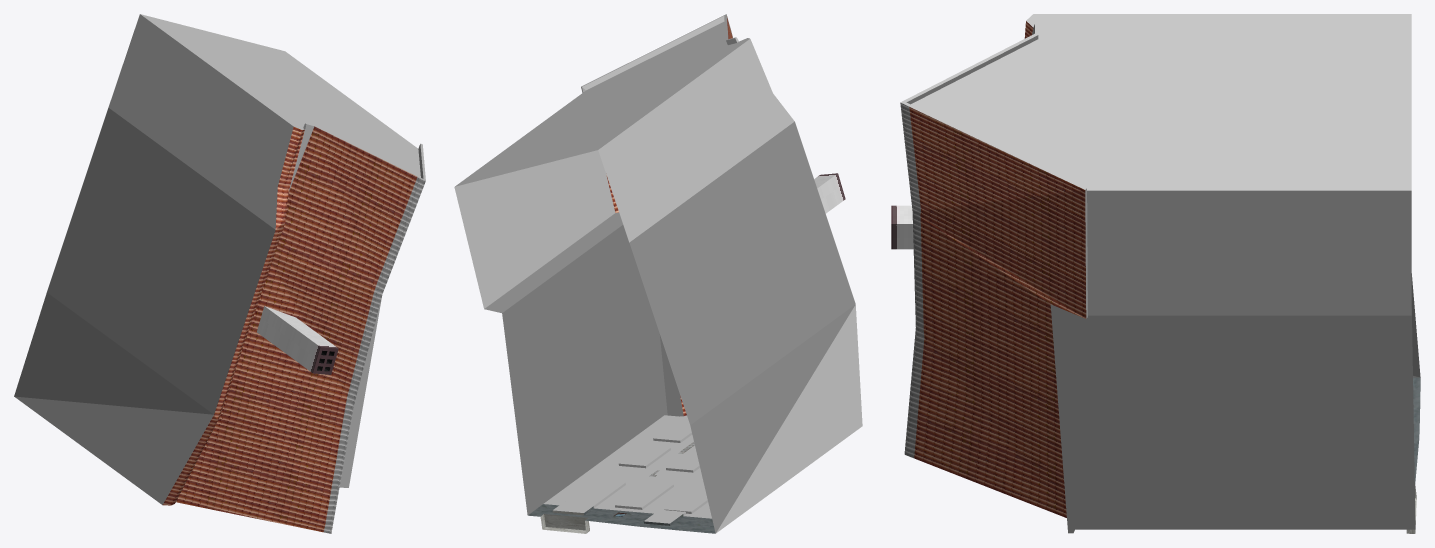
File: Hobusepea_12.obj
3 renders of one model, left to right at view 1: azimuth 30°, elevation 25°; view 2: azimuth 150°, elevation 25°; view 3: azimuth 270°, elevation 25°, orthographic. The views are drawn at different scales.
Visible parts, largest first — view 1: Hobusepea_12; view 2: Hobusepea_12; view 3: Hobusepea_12.
Part boxes in pixels (x1,y1,x2,y2): Hobusepea_12: (14,14,425,533); Hobusepea_12: (454,14,862,533); Hobusepea_12: (891,14,1420,533).
Bounding box in the file's own units: 12.7 × 17.63 × 17.36.
